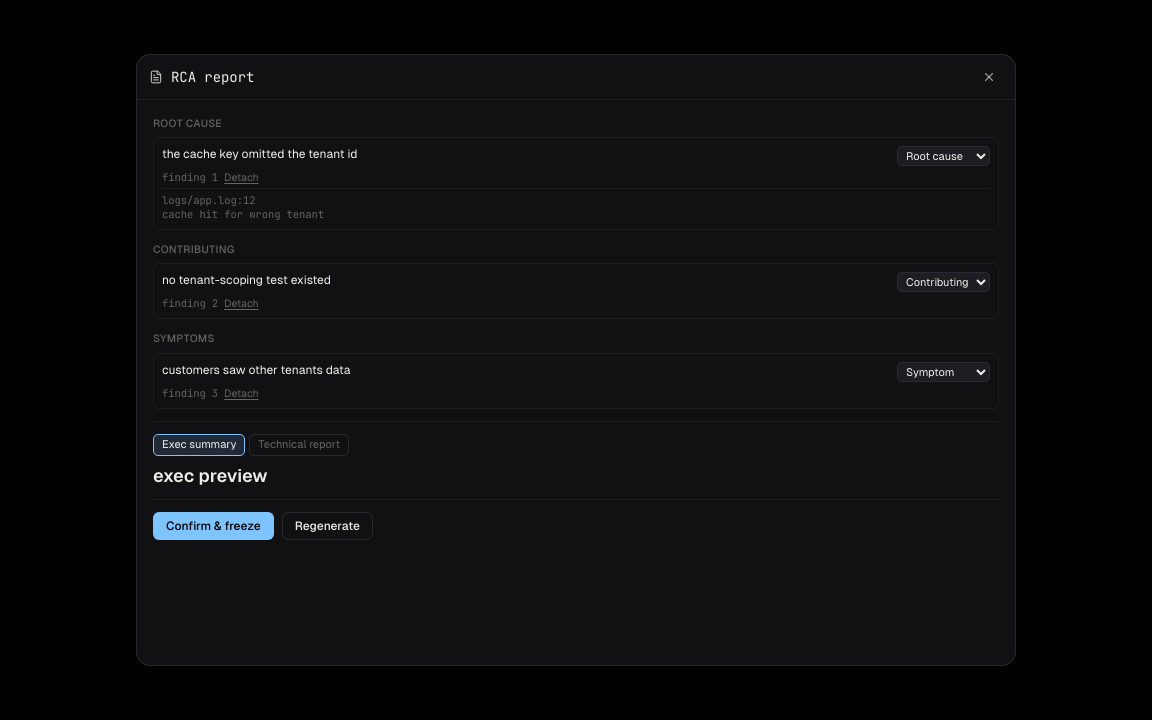
it: RcaPanel › shows the error inline when Regenerate fails from the done state
Expected: the text "the cache key omitted the tenant id" is shown, [162,147,358,161]
Click the button "Regenerate": (327, 526) [282,512,373,540]
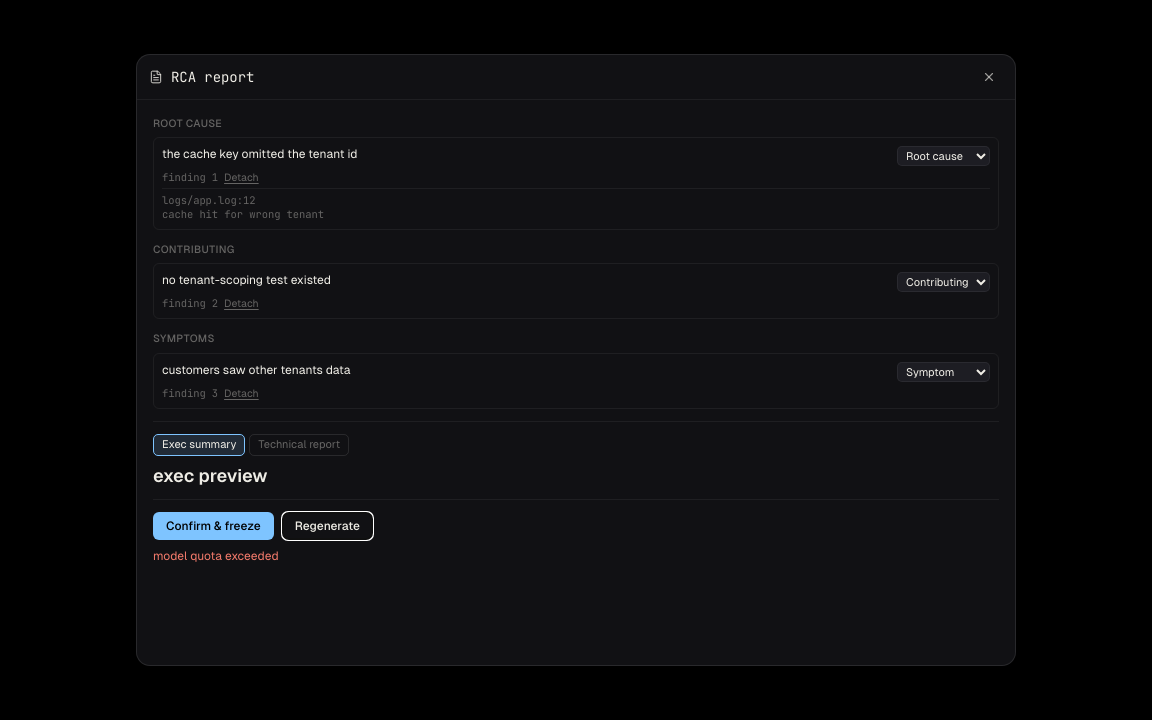
Expected: the button "Confirm & freeze" is shown, [153,512,274,540]
Expected: the text "model quota exceeded" is shown, [153,549,279,563]
